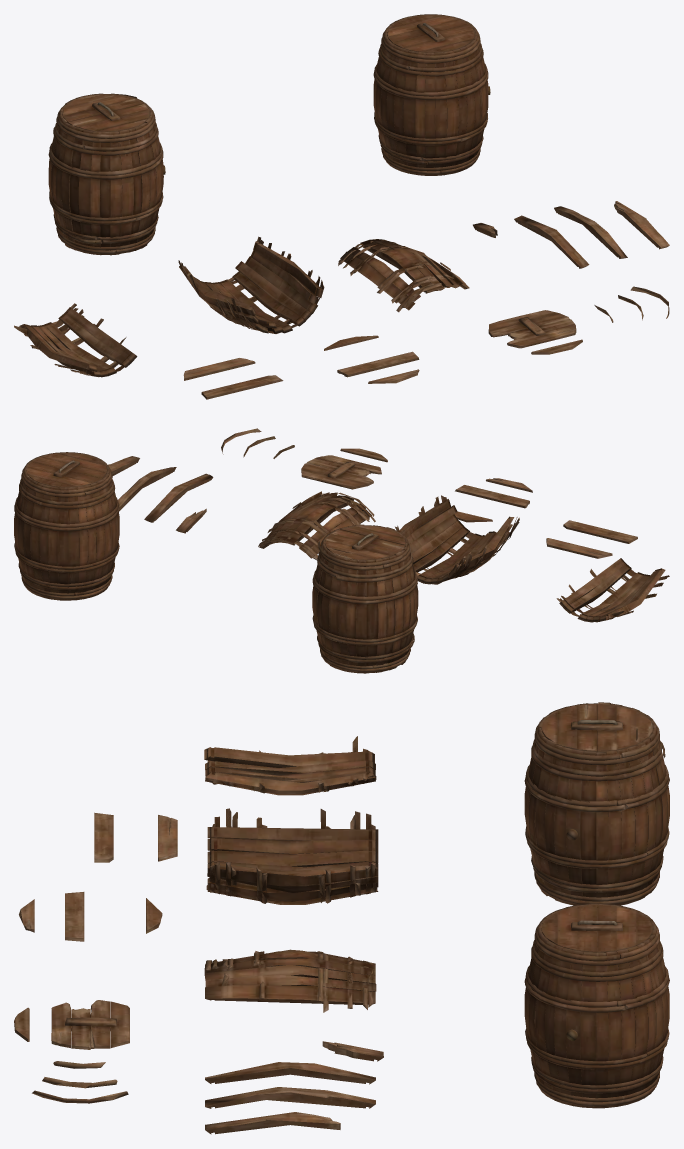
The model's file is wooden_barrels_01.glb.
3 views of the same model, one above another, from view 1: azimuth 30°, elevation 25°; view 2: azimuth 150°, elevation 25°; view 3: azimuth 270°, elevation 25° (orthographic). The views are drawn at different scales.
Parts seen in each view (by area): view 1: wooden_barrels_01_piece01, wooden_barrels_01_barrel01, wooden_barrels_01_barrel02; view 2: wooden_barrels_01_piece01, wooden_barrels_01_barrel02, wooden_barrels_01_barrel01; view 3: wooden_barrels_01_piece01, wooden_barrels_01_barrel01, wooden_barrels_01_barrel02.
Part boxes in pixels (bbox=[...]): wooden_barrels_01_piece01: bbox=[14, 201, 669, 399]; wooden_barrels_01_barrel01: bbox=[373, 14, 490, 175]; wooden_barrels_01_barrel02: bbox=[48, 93, 165, 255]; wooden_barrels_01_piece01: bbox=[108, 428, 669, 622]; wooden_barrels_01_barrel02: bbox=[312, 524, 418, 673]; wooden_barrels_01_barrel01: bbox=[14, 452, 119, 600]; wooden_barrels_01_piece01: bbox=[14, 736, 383, 1134]; wooden_barrels_01_barrel01: bbox=[524, 903, 669, 1108]; wooden_barrels_01_barrel02: bbox=[524, 702, 669, 905].
Bounding box in the file's own units: 4.44 × 0.9541 × 3.34.
3 materials, 3 textured.
